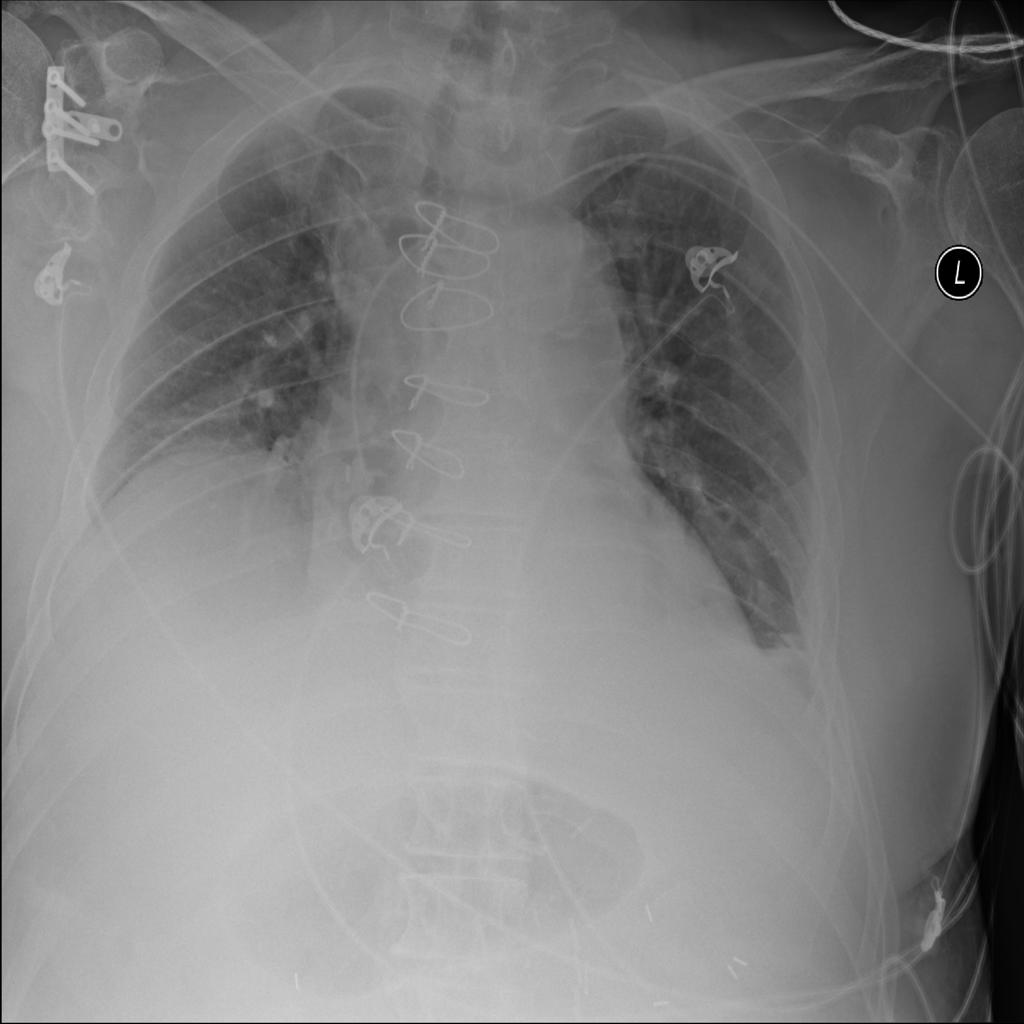Cardiomegaly: (313, 376, 754, 679)
